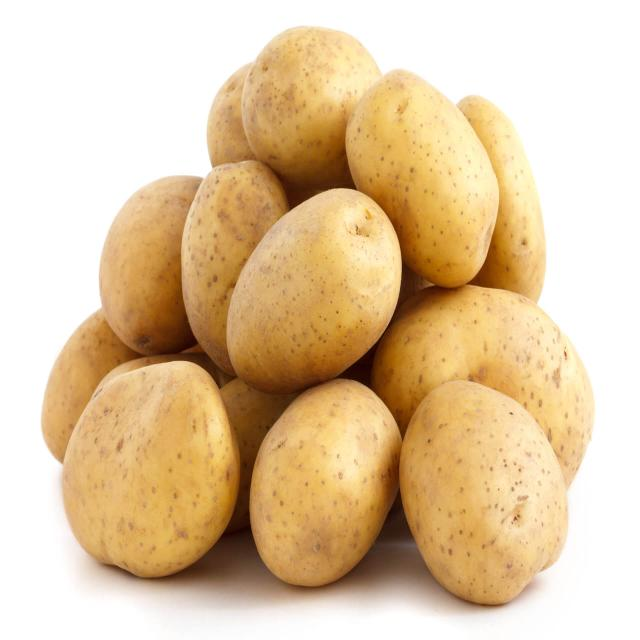potato: (394, 378, 569, 603), (57, 354, 233, 576), (224, 182, 400, 383), (250, 380, 402, 586), (344, 76, 489, 288), (240, 24, 386, 178)
